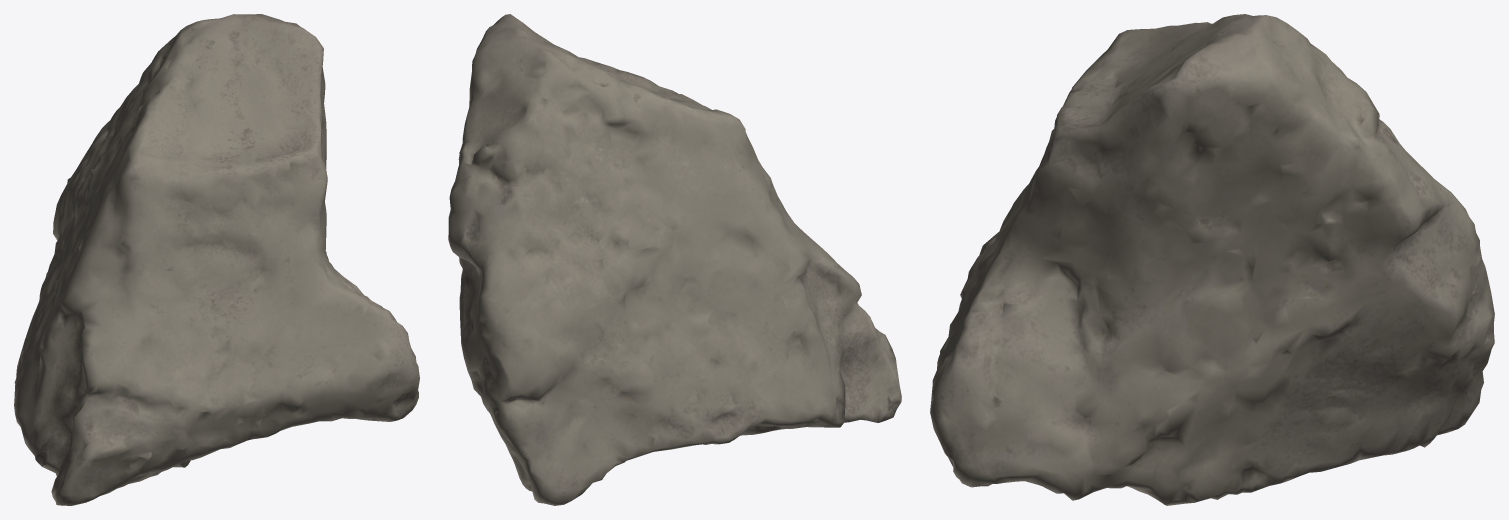
Rendered from moon_rock_05-transformed.glb.
3 views of the same model, side by side, from view 1: azimuth 30°, elevation 25°; view 2: azimuth 150°, elevation 25°; view 3: azimuth 270°, elevation 25° (orthographic). The views are drawn at different scales.
Visible parts, largest first — view 1: moon_rock_05_LOD0; view 2: moon_rock_05_LOD0; view 3: moon_rock_05_LOD0.
Part boxes in pixels (<box>): moon_rock_05_LOD0: <box>14,14,419,505</box>; moon_rock_05_LOD0: <box>448,14,901,505</box>; moon_rock_05_LOD0: <box>930,14,1494,505</box>.
Size of the model in its own units: 0.0717 by 0.0734 by 0.0811.
Materials: 1 (1 with a texture image).
